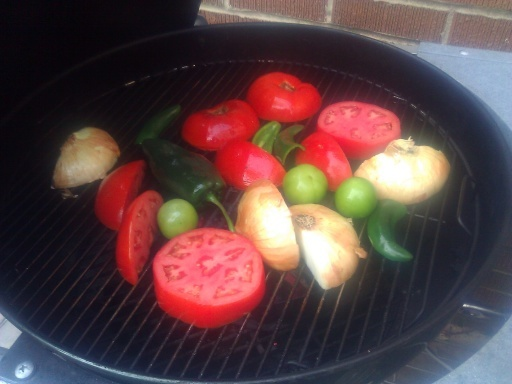background: (40, 42, 360, 197)
